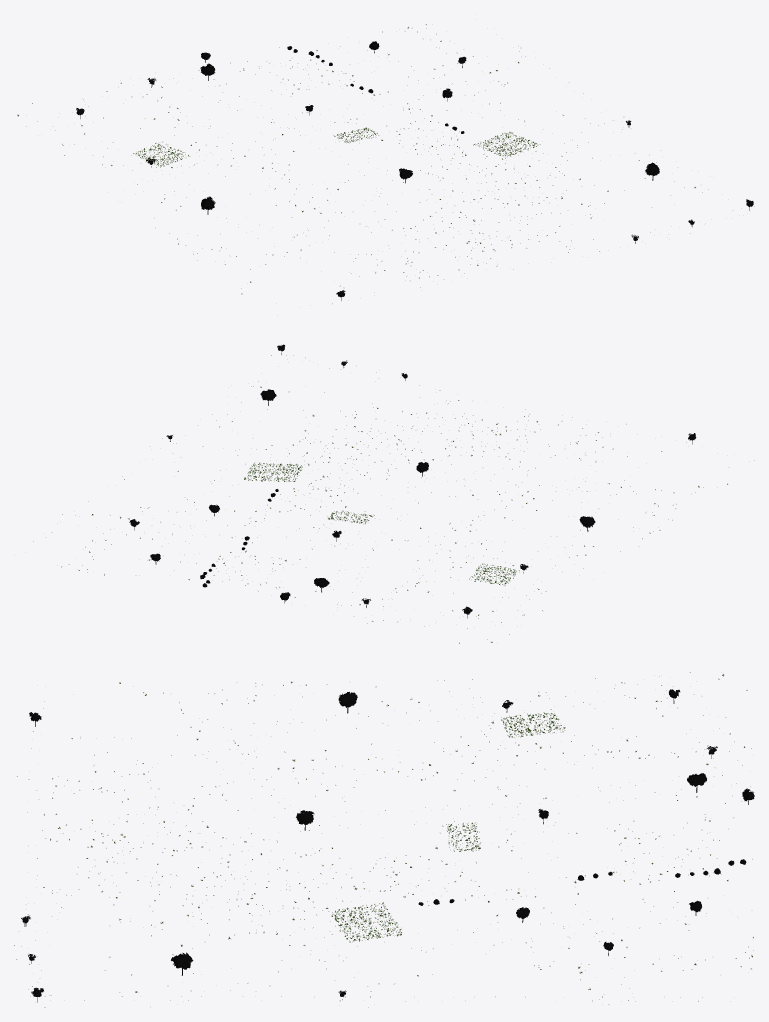
Rendered from Vegetation.fbx.
3 views of the same model, one above another, from view 1: azimuth 30°, elevation 25°; view 2: azimuth 150°, elevation 25°; view 3: azimuth 270°, elevation 25° (orthographic). The views are drawn at different scales.
Parts seen in each view (by area): view 1: EXPORT_OT_Vegetation_SA_M01_02_S00_00; view 2: EXPORT_OT_Vegetation_SA_M01_02_S00_00; view 3: EXPORT_OT_Vegetation_SA_M01_02_S00_00.
Boxes of the visible parts, left/top/right/bottom form: EXPORT_OT_Vegetation_SA_M01_02_S00_00: left=17, top=24, right=754, bottom=303; EXPORT_OT_Vegetation_SA_M01_02_S00_00: left=33, top=344, right=754, bottom=643; EXPORT_OT_Vegetation_SA_M01_02_S00_00: left=14, top=672, right=754, bottom=1007.
Size of the model in its own units: 249 by 16.17 by 250.
